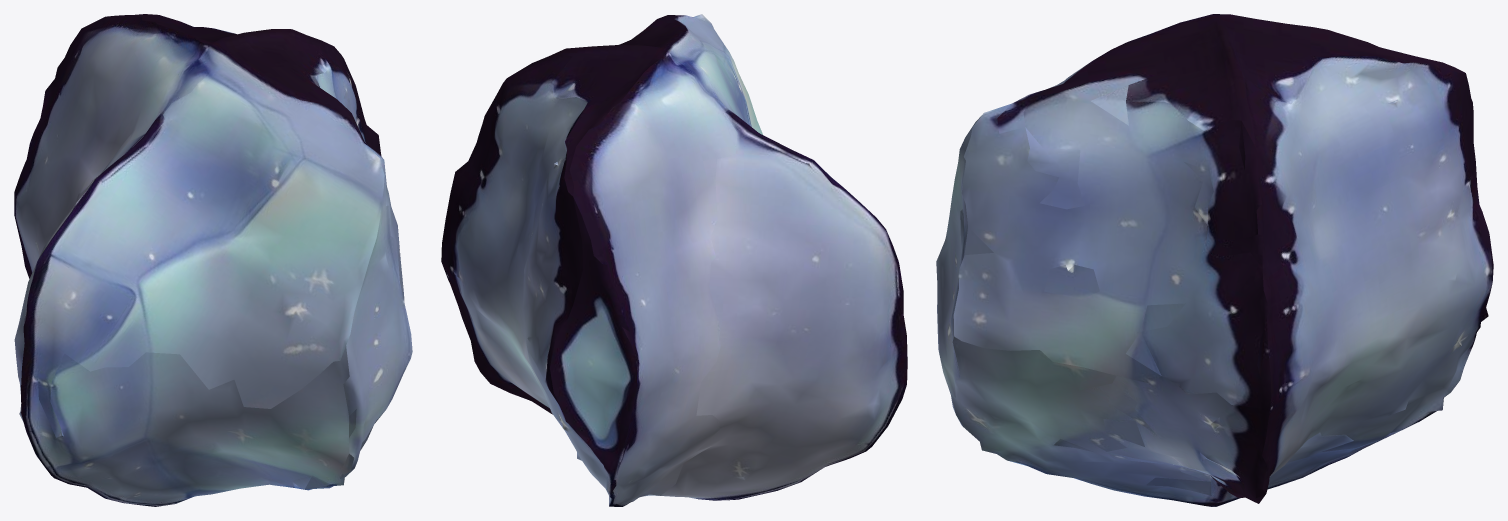
File: star_metal.glb
3 views of the same model, side by side, from view 1: azimuth 30°, elevation 25°; view 2: azimuth 150°, elevation 25°; view 3: azimuth 270°, elevation 25° (orthographic). The views are drawn at different scales.
Parts seen in each view (by area): view 1: star_metal; view 2: star_metal; view 3: star_metal.
Boxes of the visible parts, x1,y1,x2,y2 form: star_metal: (14, 14, 412, 506); star_metal: (441, 14, 907, 506); star_metal: (936, 14, 1493, 506).
Bounding box in the file's own units: 0.9712 × 0.9983 × 1.
Materials: 1 (1 with a texture image).
